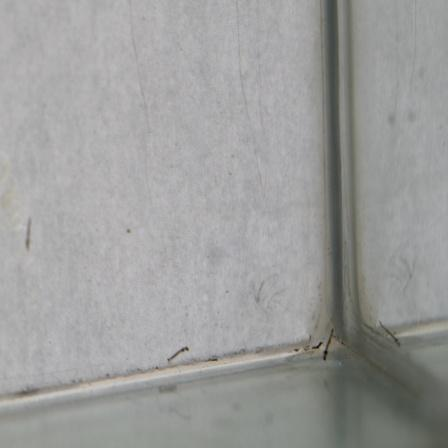Jentik-Nyamuk: (319, 324, 341, 365), (164, 343, 193, 367)
